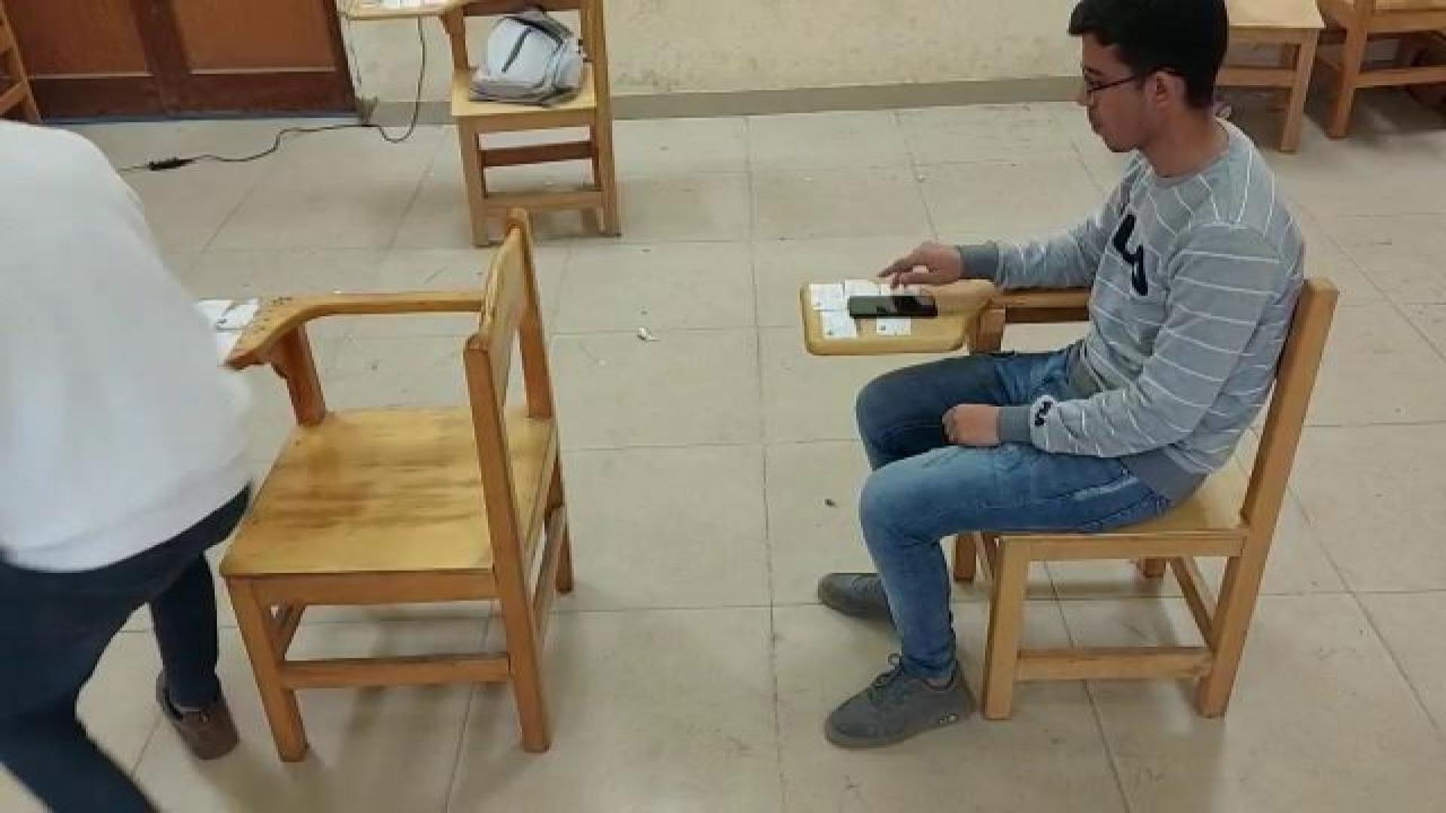phone: (845, 284, 942, 326)
